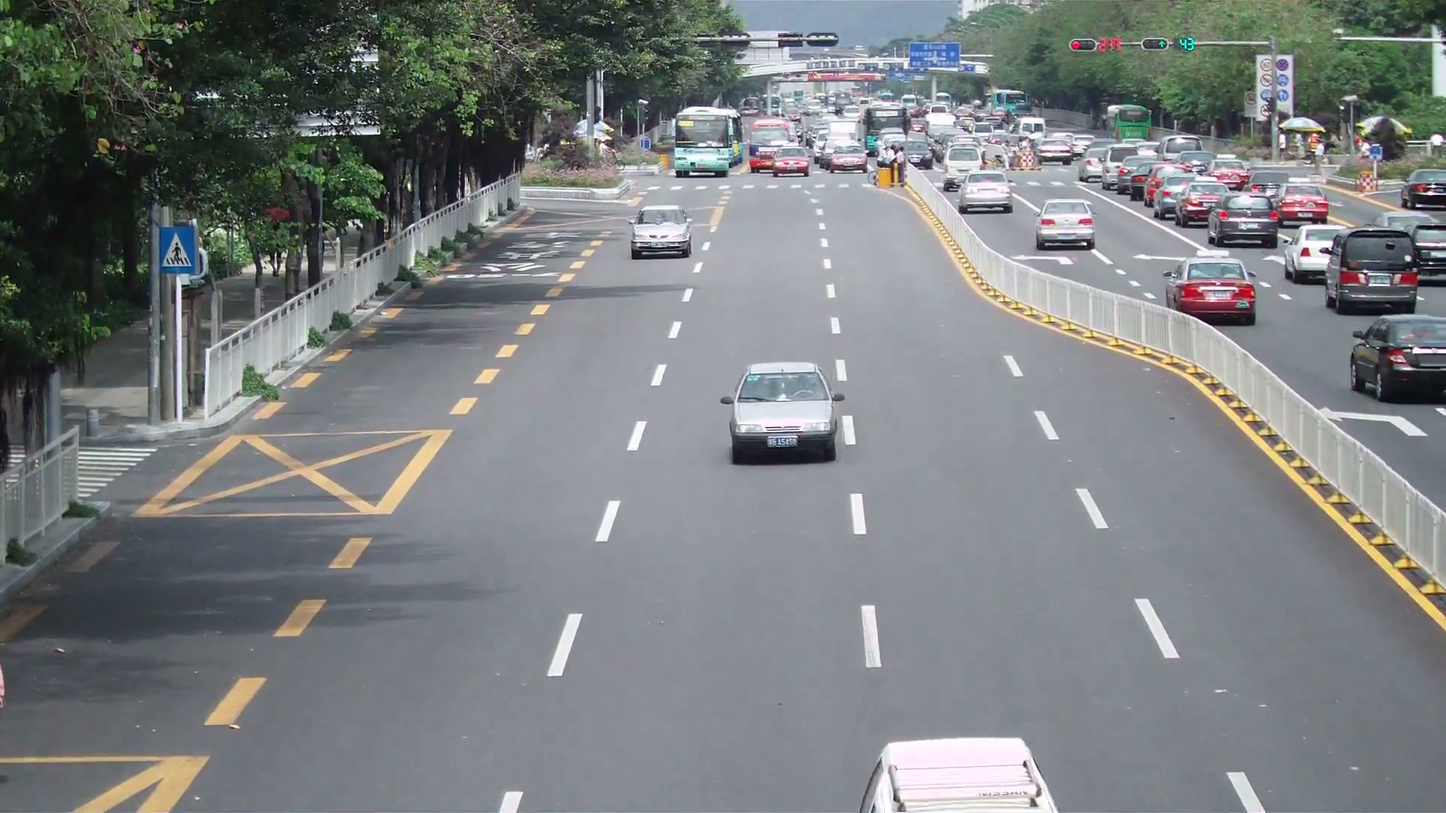bus: (673, 105, 746, 177)
car: (859, 737, 1060, 812), (725, 360, 840, 464), (1322, 226, 1421, 316), (1348, 315, 1445, 403), (1163, 255, 1259, 325), (1279, 223, 1350, 284), (1208, 192, 1279, 249), (628, 202, 694, 259), (1035, 198, 1096, 251), (957, 172, 1013, 215), (1272, 184, 1329, 226), (1177, 183, 1228, 225), (1412, 220, 1445, 282), (1401, 168, 1446, 209), (770, 149, 812, 177)
truck: (672, 106, 746, 178)
